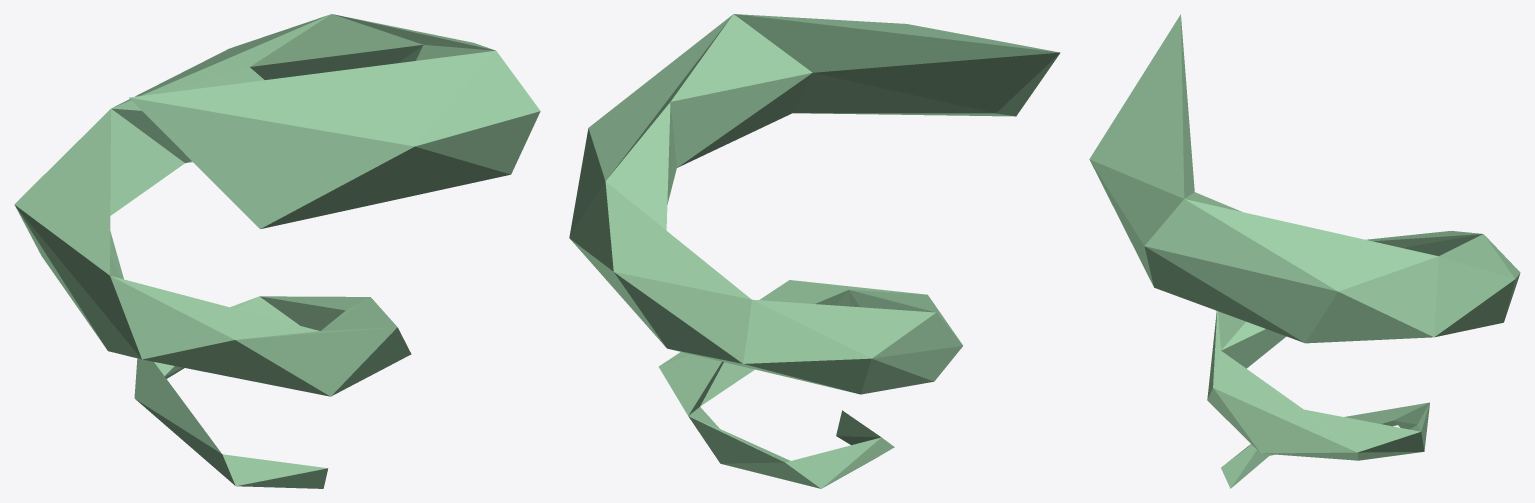
File: Wind.fbx
The picture shows the model from 3 angles, left to right: view 1: azimuth 30°, elevation 25°; view 2: azimuth 150°, elevation 25°; view 3: azimuth 270°, elevation 25°; orthographic projection. The views are drawn at different scales.
Visible parts, largest first — view 1: Cube.007; view 2: Cube.007; view 3: Cube.007.
Part boxes in pixels (x1,y1,x2,y2): Cube.007: (14, 14, 540, 488); Cube.007: (569, 14, 1060, 488); Cube.007: (1089, 14, 1520, 488).
Bounding box in the file's own units: 311 × 316 × 321.
